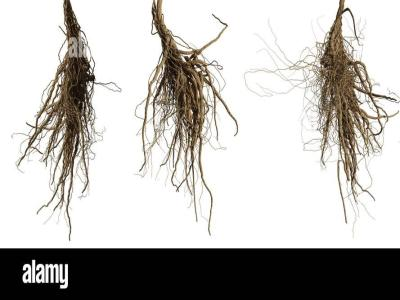Root: (142, 0, 224, 213), (24, 0, 95, 238), (319, 0, 396, 196)
